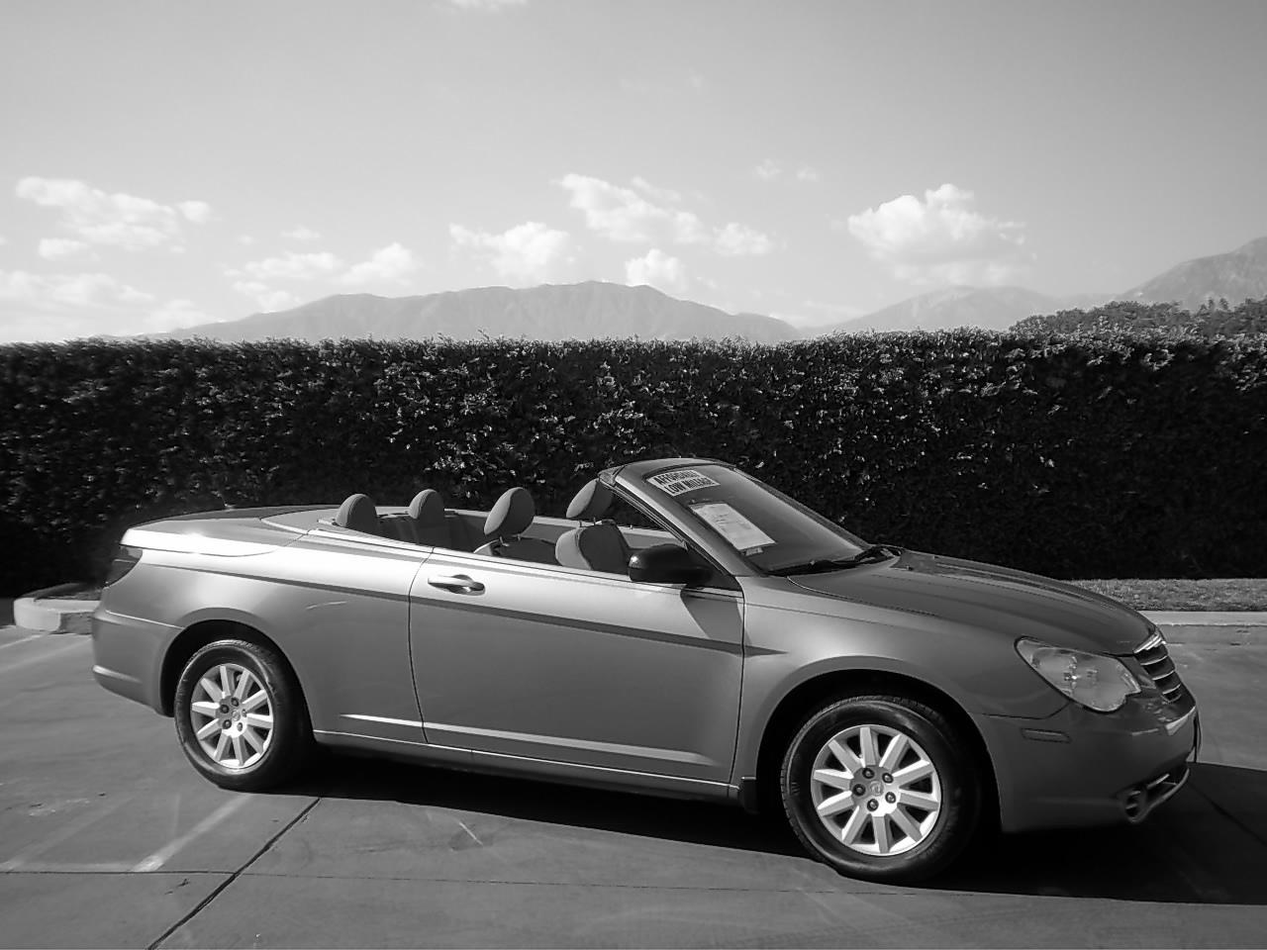car: (91, 454, 1203, 880)
